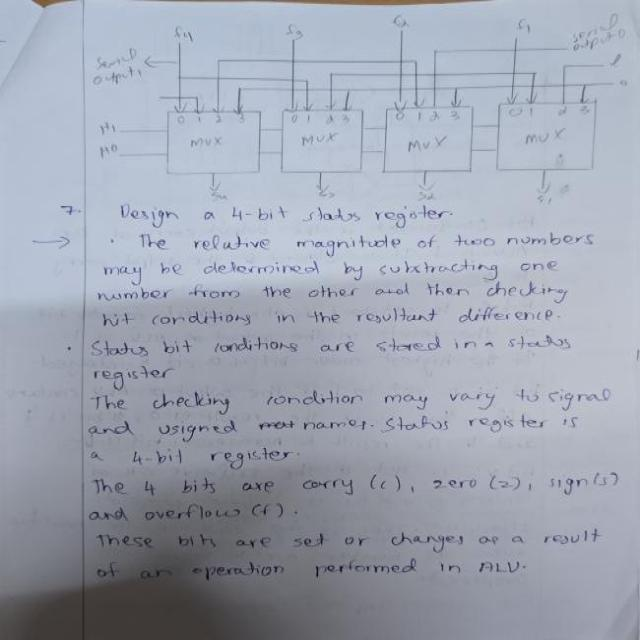Figure Detection - v3 Dataset Version2: (79, 3, 633, 216)
